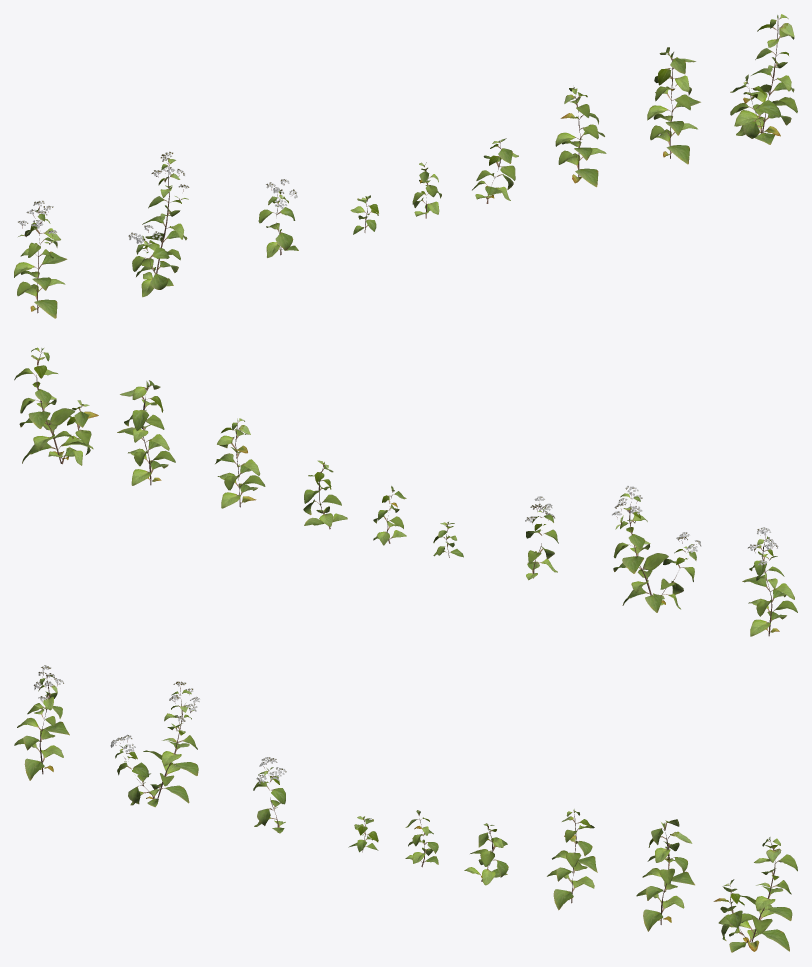
The model's file is shrub_01.glb.
The picture shows the model from 3 angles, top to bottom: view 1: azimuth 30°, elevation 25°; view 2: azimuth 150°, elevation 25°; view 3: azimuth 330°, elevation 25°; orthographic projection. The views are drawn at different scales.
Visible parts, largest first — view 1: shrub_01_a; view 2: shrub_01_a; view 3: shrub_01_a.
Boxes of the visible parts, x1=… form: shrub_01_a: x1=14, y1=14, x2=797, y2=318; shrub_01_a: x1=14, y1=347, x2=797, y2=636; shrub_01_a: x1=14, y1=665, x2=797, y2=952.
Size of the model in its own units: 2.59 by 0.3954 by 0.2182.
1 material, 1 textured.
